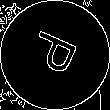P_SE: (24, 28, 86, 82)
